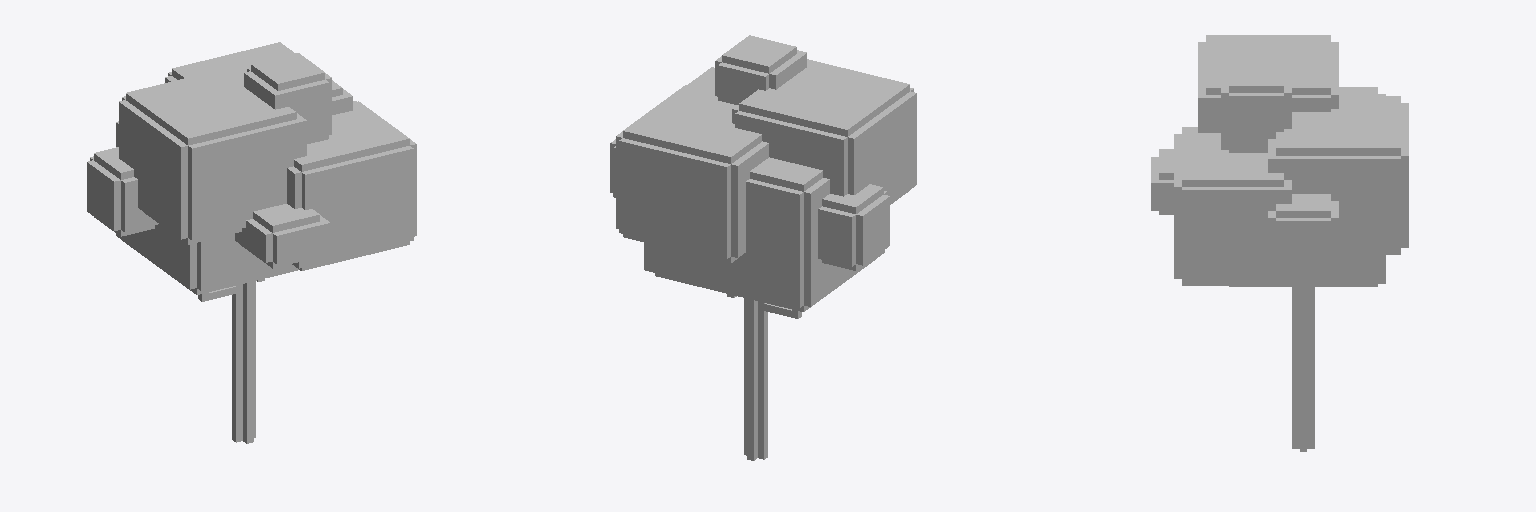
The model's file is tree_green_3X.obj.
The picture shows the model from 3 angles: view 1: azimuth 30°, elevation 25°; view 2: azimuth 150°, elevation 25°; view 3: azimuth 270°, elevation 25°; orthographic projection.
Bounding box in the file's own units: 39 × 54 × 33.